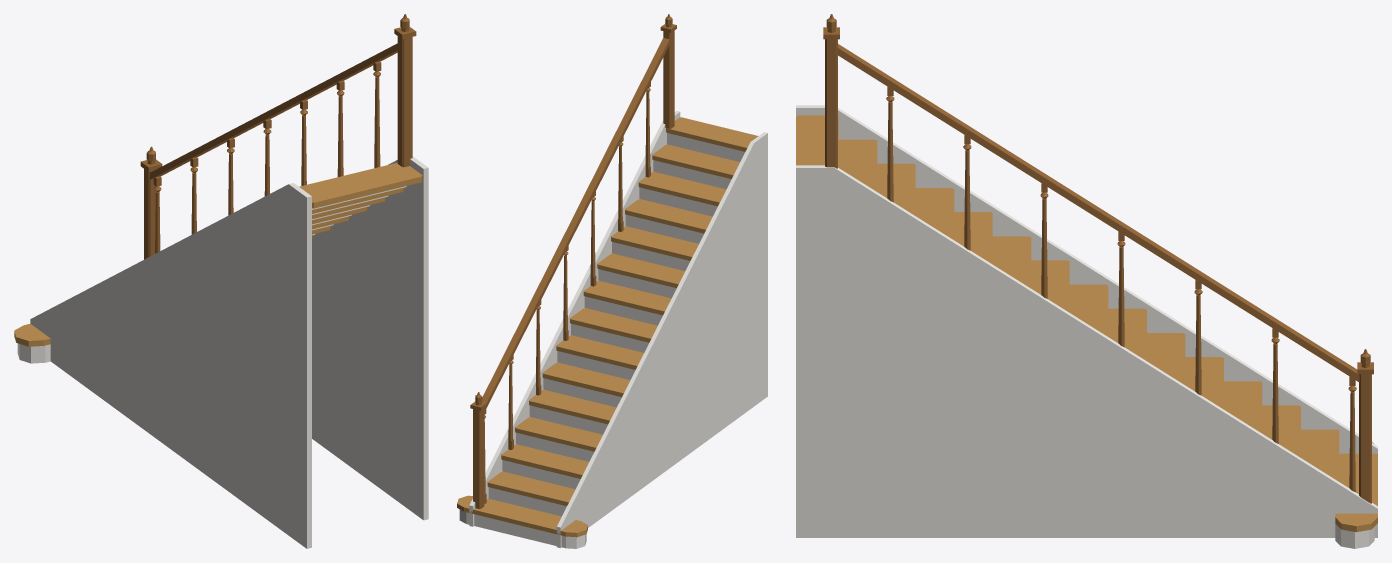
Rendered from SM_LPI_Stair_FlightBoxed_01.fbx.
3 views of the same model, side by side, from view 1: azimuth 30°, elevation 25°; view 2: azimuth 150°, elevation 25°; view 3: azimuth 270°, elevation 25° (orthographic). The views are drawn at different scales.
Parts seen in each view (by area): view 1: SM_LPI_Stair_FlightBoxed_01; view 2: SM_LPI_Stair_FlightBoxed_01; view 3: SM_LPI_Stair_FlightBoxed_01.
Part boxes in pixels (x1,y1,x2,y2): SM_LPI_Stair_FlightBoxed_01: (14, 14, 428, 548); SM_LPI_Stair_FlightBoxed_01: (457, 14, 767, 548); SM_LPI_Stair_FlightBoxed_01: (796, 14, 1377, 548).
Bounding box in the file's own units: 1.4 × 3.87 × 3.93.
